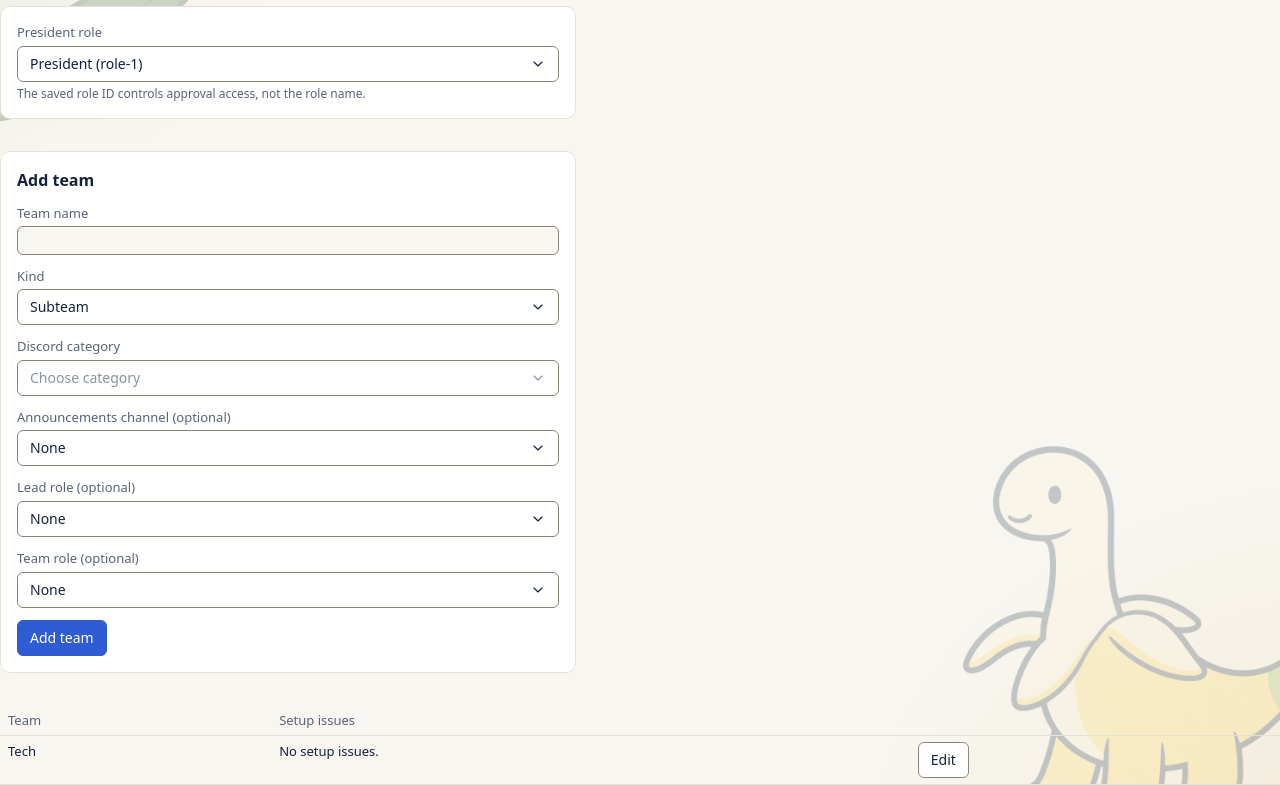
Scenario: task teams page › team edit announcement select lists only channels in the team category
(page scrolled)
Click the button with aria-label "Edit Tech": (943, 760) [918,742,969,778]
(page scrolled)
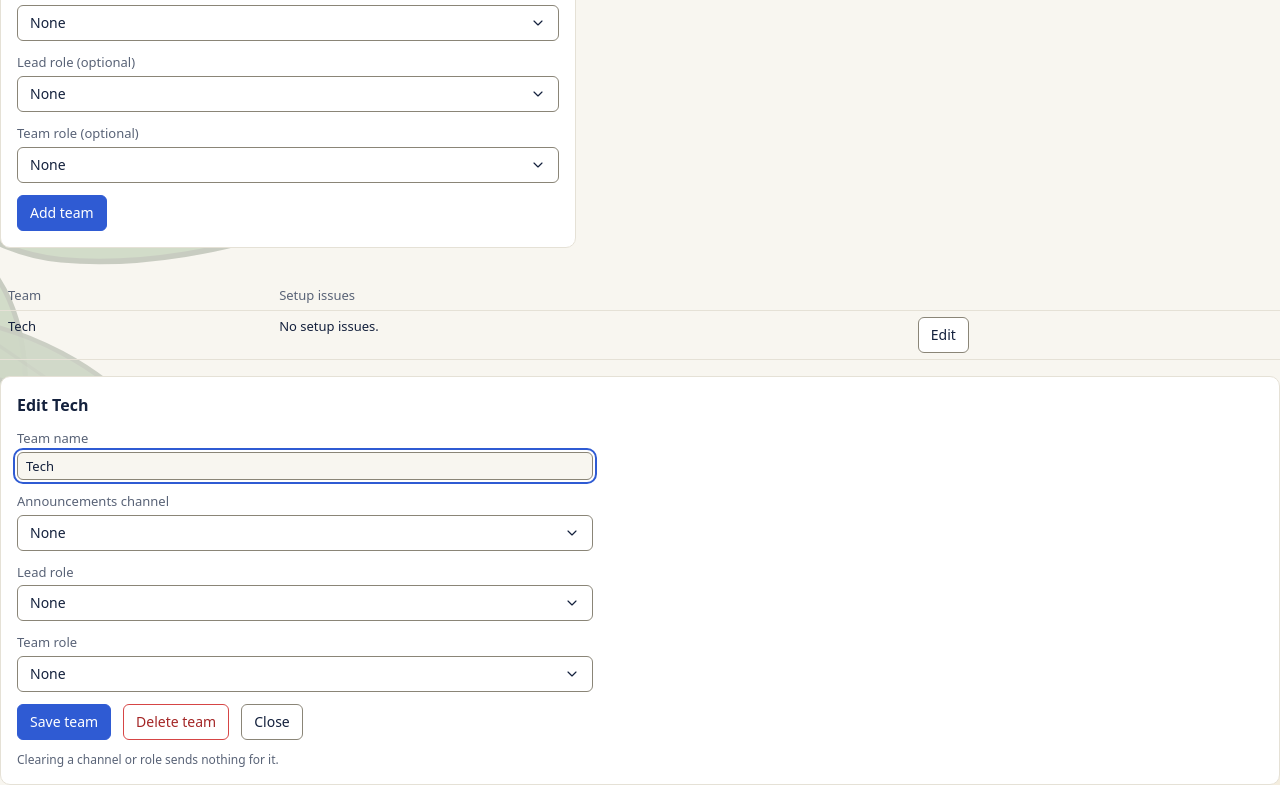
Click the dropdown named "Announcements channel": (48, 532) [17,515,593,551]
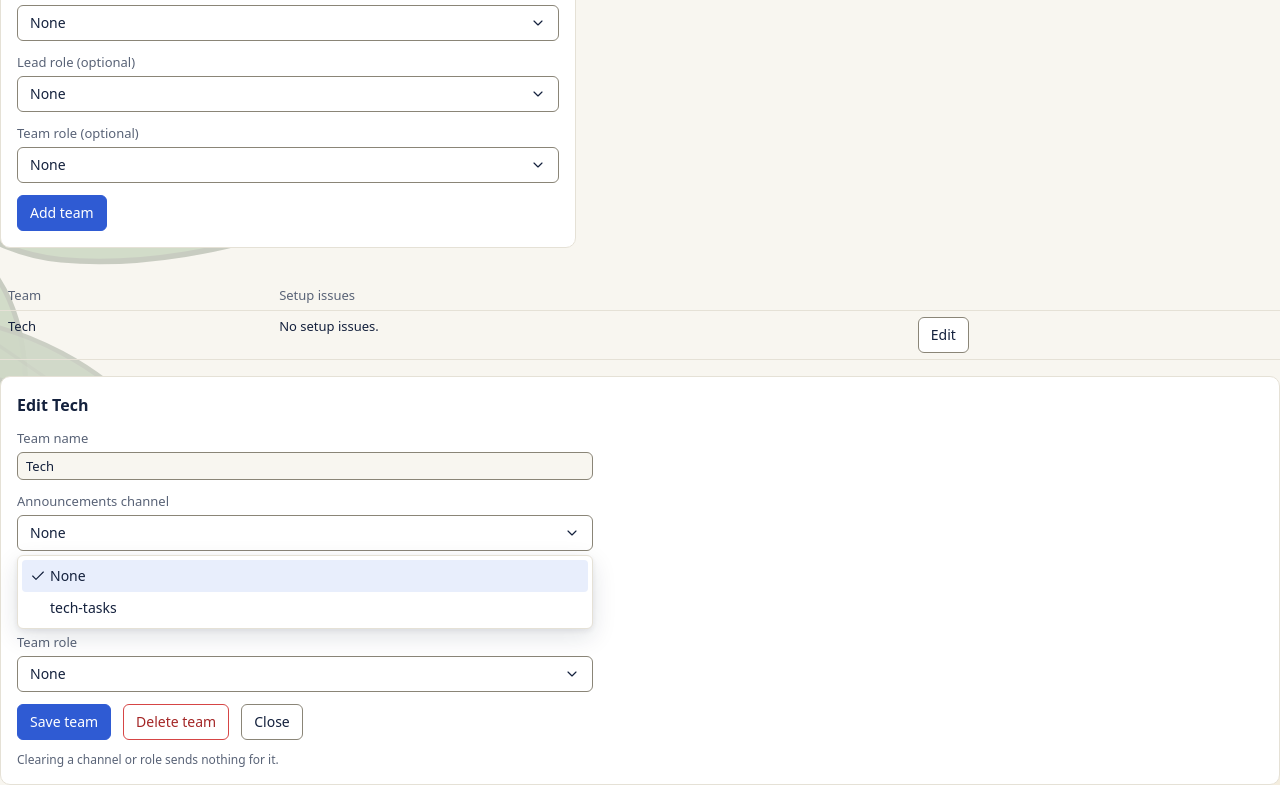
Result: the text "tech-tasks" is shown at [50,598,117,617]
